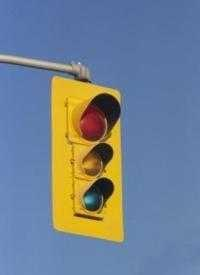green: (54, 77, 130, 238)
